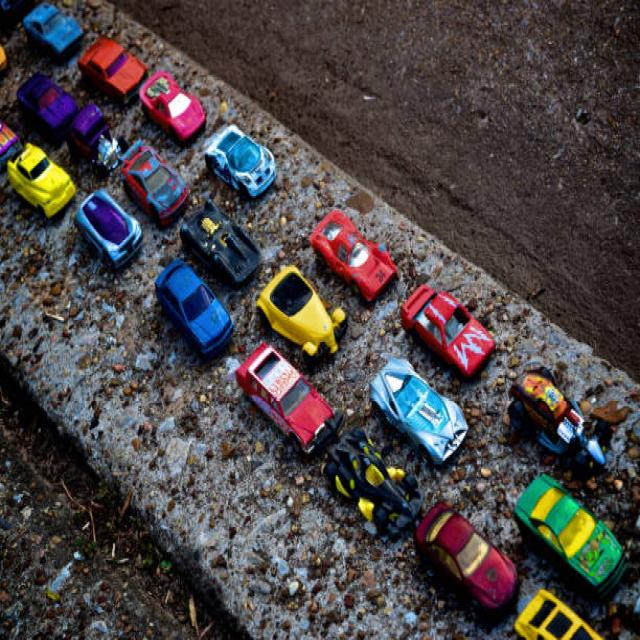Car: (514, 472, 628, 601), (234, 340, 340, 455), (413, 501, 519, 614), (507, 364, 607, 466), (255, 264, 347, 362), (400, 283, 494, 377), (308, 207, 398, 301), (154, 257, 233, 361), (120, 138, 190, 227), (74, 188, 144, 270), (204, 123, 276, 200), (7, 141, 76, 218), (76, 34, 148, 104), (139, 69, 206, 143), (514, 586, 604, 638), (16, 70, 78, 140), (67, 102, 121, 173), (22, 2, 84, 58), (0, 118, 21, 171)
